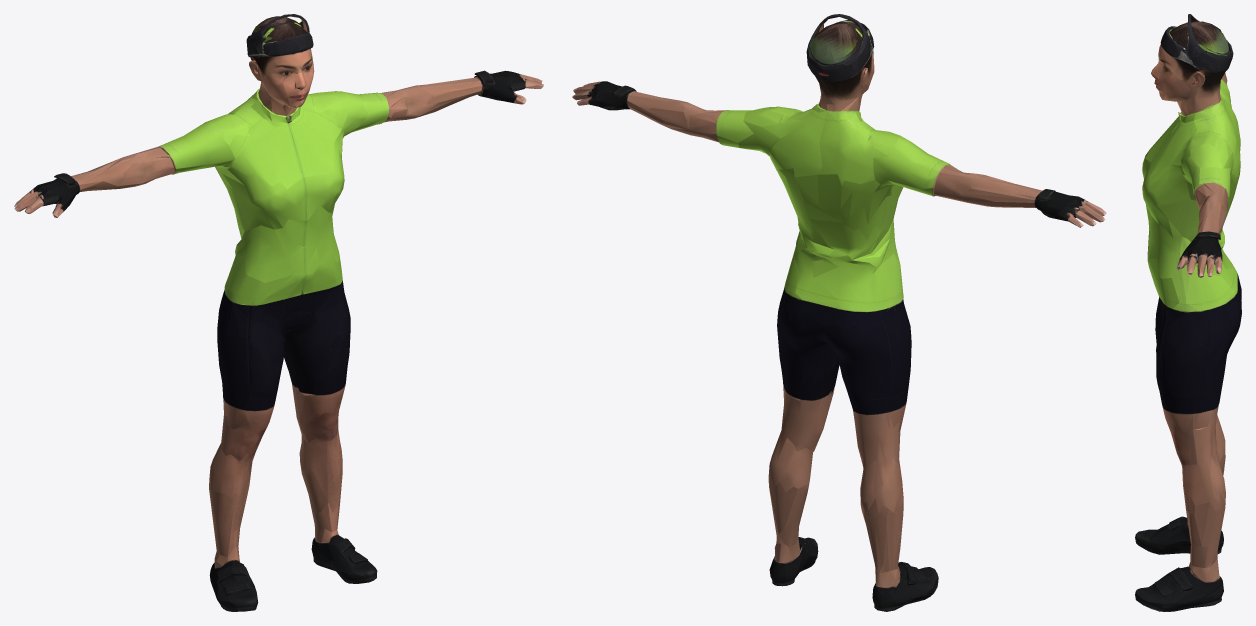
Rendered from image3d.glb.
The picture shows the model from 3 angles, left to right: view 1: azimuth 30°, elevation 25°; view 2: azimuth 150°, elevation 25°; view 3: azimuth 270°, elevation 25°; orthographic projection. The views are drawn at different scales.
Size of the model in its own units: 1.84 by 1.9 by 0.3284.
1 material, 1 textured.
